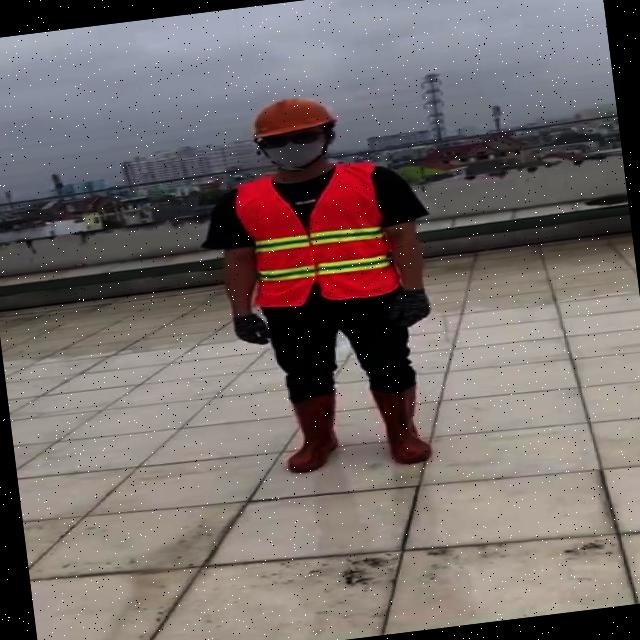boots: (367, 382, 432, 468), (278, 396, 342, 471)
